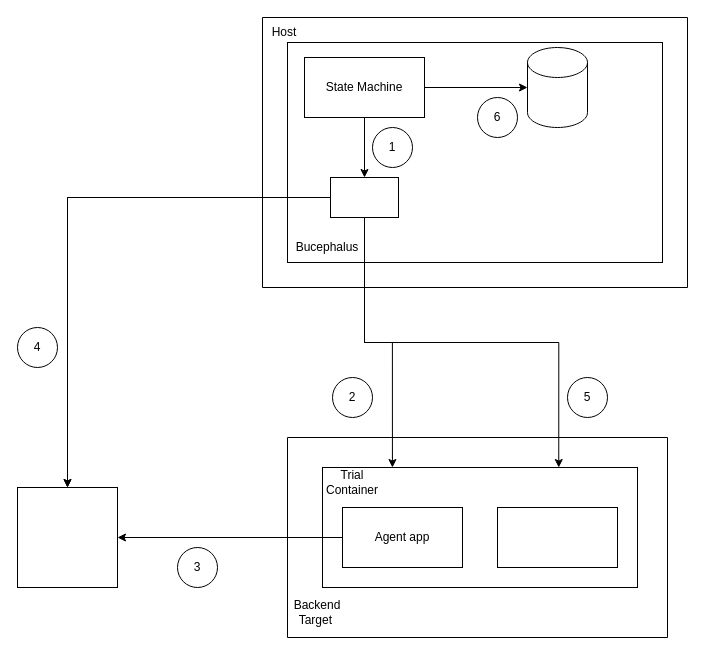
Image size: 705x665. Some labels were removed from this diagram. The box of each missing label's shape, as (x1, y1, x2, y2) in pixels:
Grading script: (496, 506, 618, 568)
Shared mounted workspace /workspace: (16, 486, 118, 588)
SQLite: (526, 46, 588, 128)
Supervisor: (330, 176, 398, 218)
